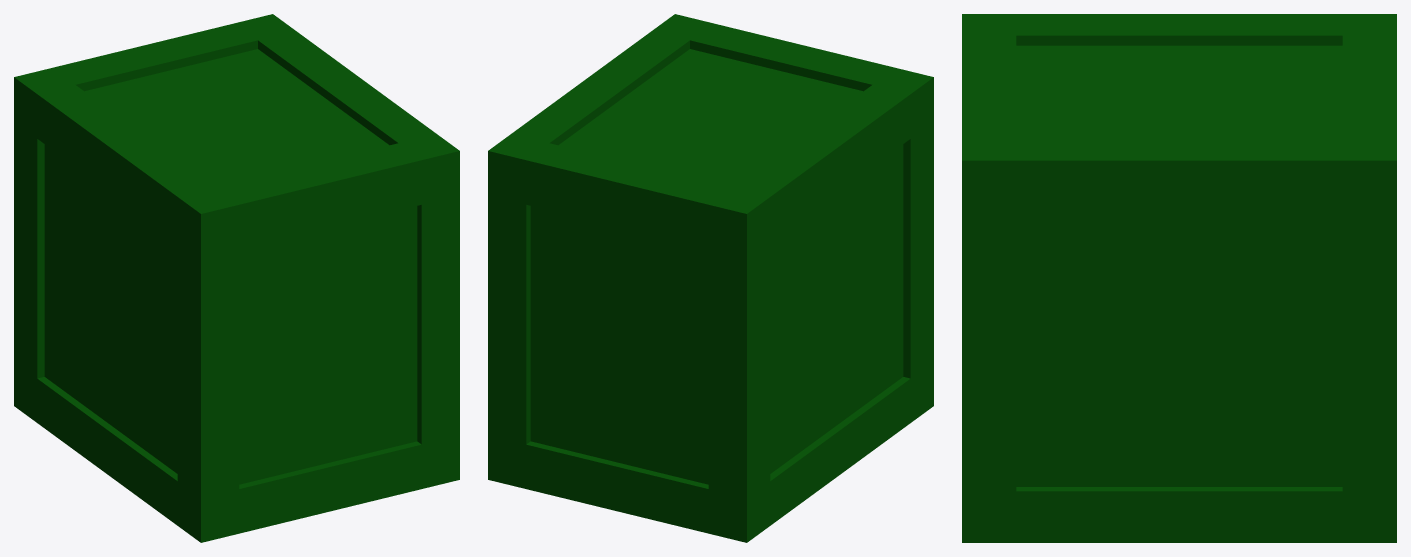
File: crate02.FBX
3 renders of one model, left to right at view 1: azimuth 30°, elevation 25°; view 2: azimuth 150°, elevation 25°; view 3: azimuth 270°, elevation 25°, orthographic. The views are drawn at different scales.
Visible parts, largest first — view 1: SM_crate02_0; view 2: SM_crate02_0; view 3: SM_crate02_0.
Boxes of the visible parts, x1=… form: SM_crate02_0: x1=14, y1=14, x2=459, y2=542; SM_crate02_0: x1=488, y1=14, x2=933, y2=542; SM_crate02_0: x1=962, y1=14, x2=1396, y2=542.
Size of the model in its own units: 38.46 by 48.13 by 46.69.
